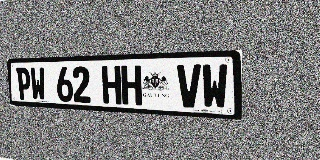2: (72, 66, 91, 103)
6: (56, 67, 73, 102)
H: (121, 65, 142, 105), (102, 66, 122, 104)
P: (16, 67, 32, 100)
V: (177, 64, 201, 108)
W: (202, 64, 228, 109), (30, 67, 46, 101)
